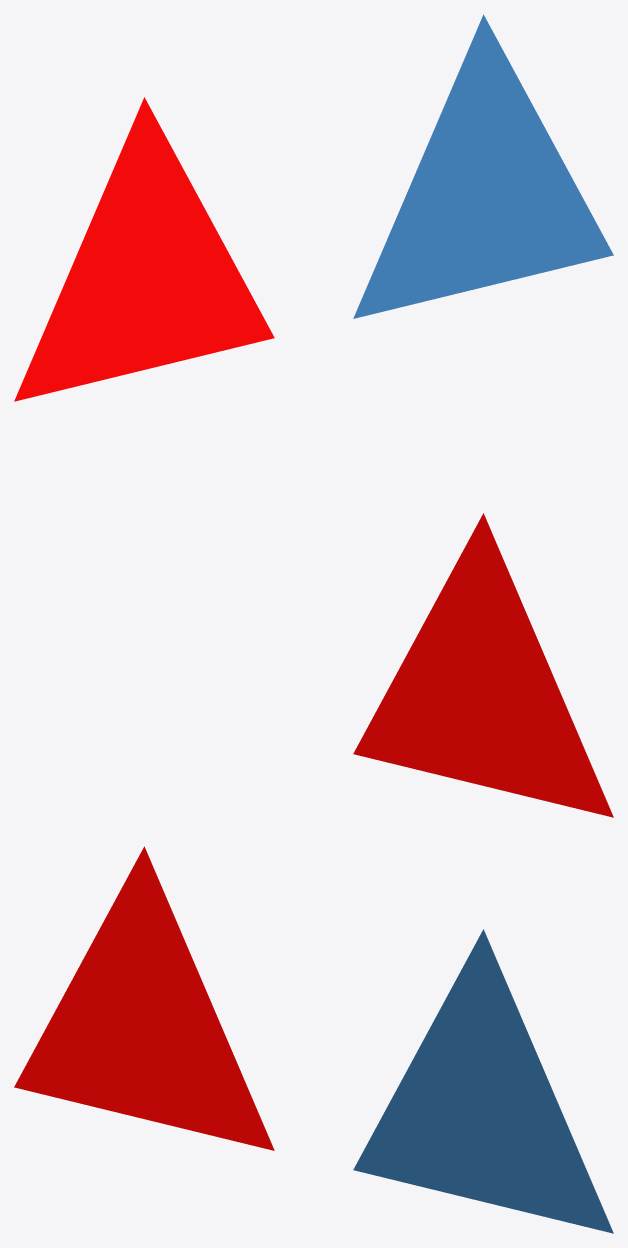
File: relay-pbr-golden.gltf
3 renders of one model, top to bottom at view 1: azimuth 30°, elevation 25°; view 2: azimuth 150°, elevation 25°; view 3: azimuth 330°, elevation 25°, orthographic.
Parts seen in each view (by area): view 1: Textured metallic, Rough dielectric; view 2: Textured metallic; view 3: Rough dielectric, Textured metallic.
Boxes of the visible parts, x1,y1,x2,y2 form: Textured metallic: (14,97,274,401); Rough dielectric: (353,14,613,318); Textured metallic: (353,513,613,817); Rough dielectric: (353,929,613,1233); Textured metallic: (14,846,274,1150).
Size of the model in its own units: 2.3 by 1 by 0.
Materials: 2 (1 with a texture image).
